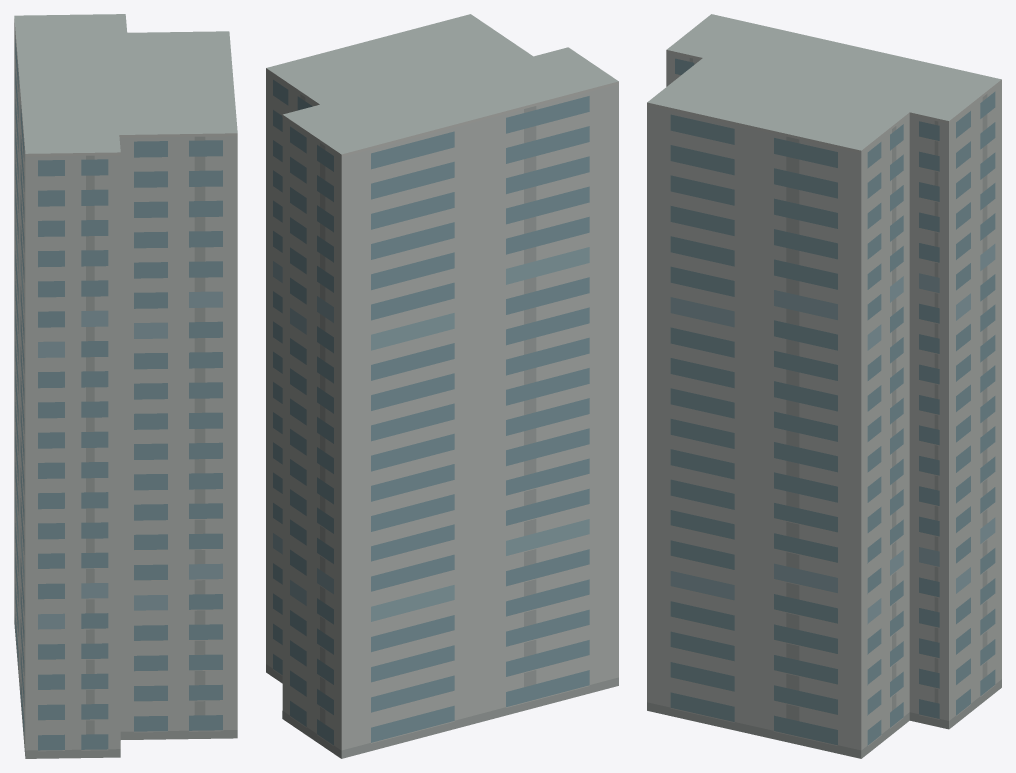
File: residential-0792c81d-dc7b-4e28-9d09-fa91fa19b974.glb
3 views of the same model, side by side, from view 1: azimuth 30°, elevation 25°; view 2: azimuth 150°, elevation 25°; view 3: azimuth 270°, elevation 25° (orthographic).
Visible parts, largest first — view 1: residential-0792c81d-dc7b-4e28-9d09-fa91fa19b974.tmp; view 2: residential-0792c81d-dc7b-4e28-9d09-fa91fa19b974.tmp; view 3: residential-0792c81d-dc7b-4e28-9d09-fa91fa19b974.tmp.
Part boxes in pixels (x1,y1,x2,y2): residential-0792c81d-dc7b-4e28-9d09-fa91fa19b974.tmp: [14, 14, 237, 758]; residential-0792c81d-dc7b-4e28-9d09-fa91fa19b974.tmp: [266, 14, 618, 758]; residential-0792c81d-dc7b-4e28-9d09-fa91fa19b974.tmp: [647, 14, 1001, 758].
Bounding box in the file's own units: 26.03 × 54 × 28.55.
